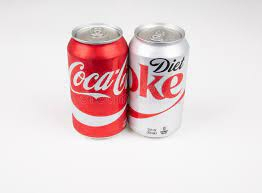can: (64, 21, 127, 139), (129, 23, 191, 142)
